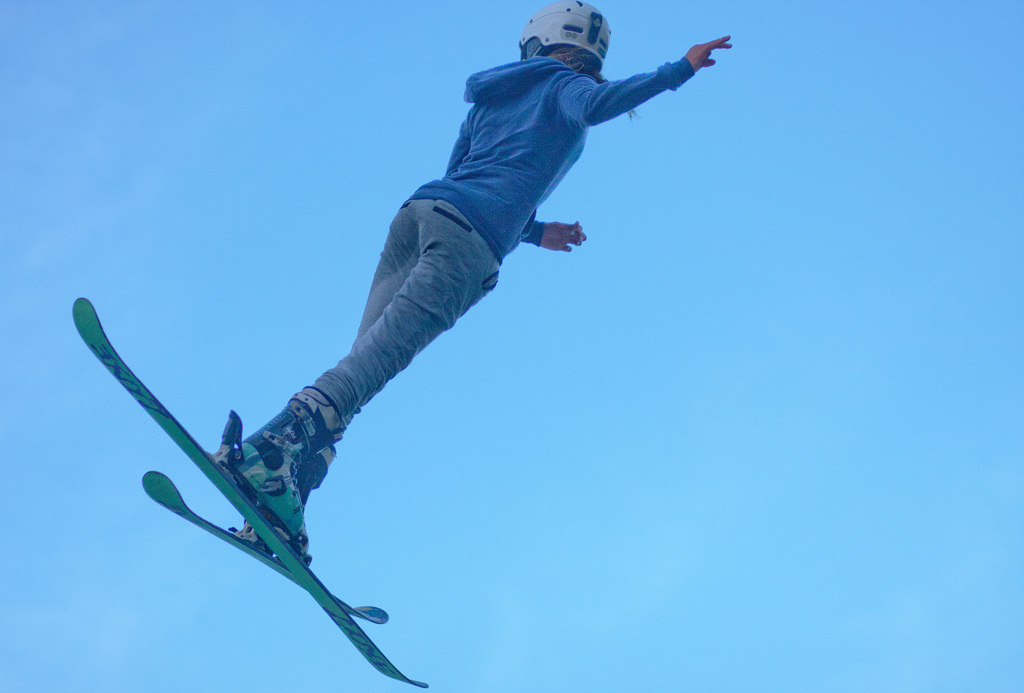Person: (206, 0, 732, 566)
